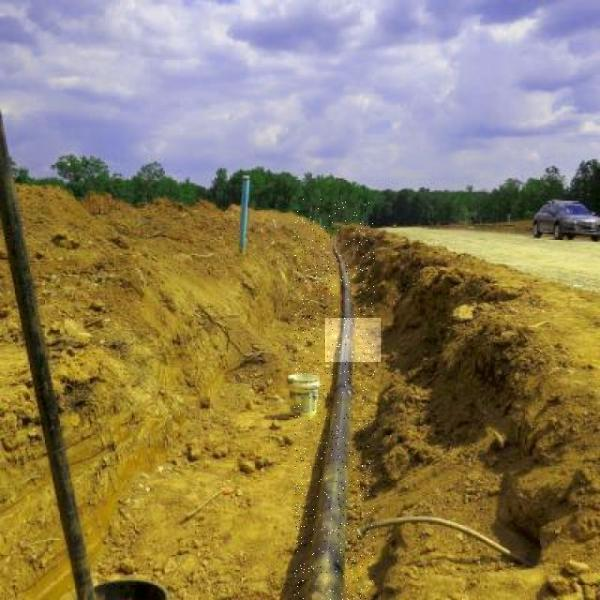no leak: (325, 318, 381, 362)
